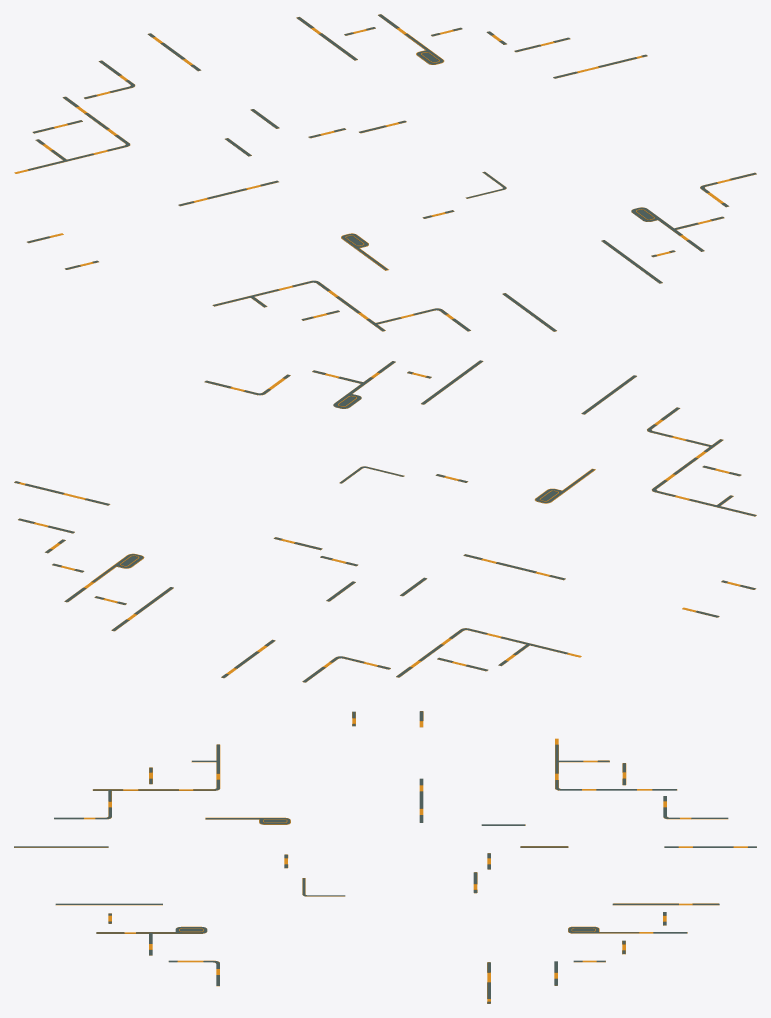
The model's file is D9_Grass_Sidewalks.fbx.
3 views of the same model, one above another, from view 1: azimuth 30°, elevation 25°; view 2: azimuth 150°, elevation 25°; view 3: azimuth 270°, elevation 25° (orthographic). The views are drawn at different scales.
Bounding box in the file's own units: 219066 × 132 × 235069.
